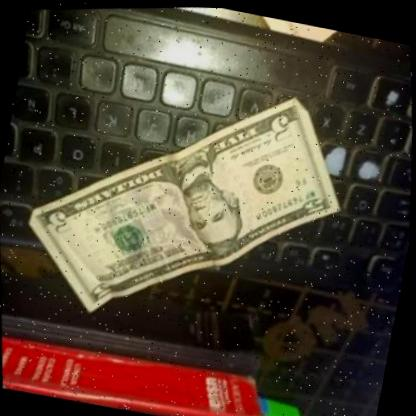five-front: (0, 38, 383, 372)
